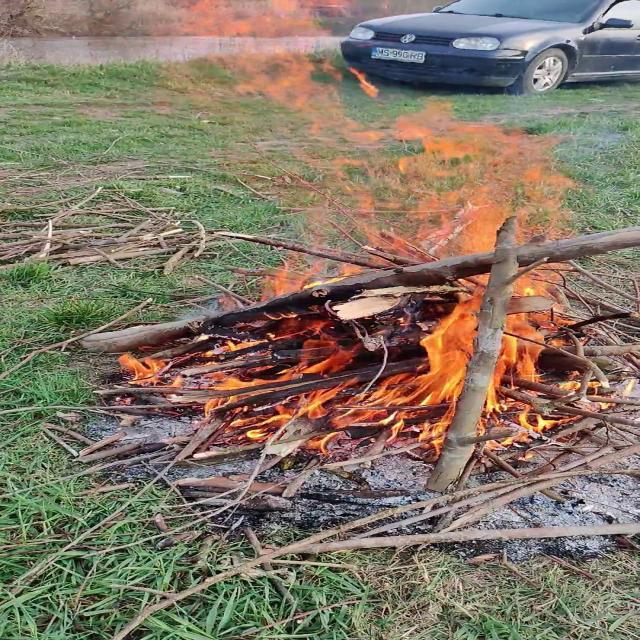Fire: (100, 16, 630, 458)
